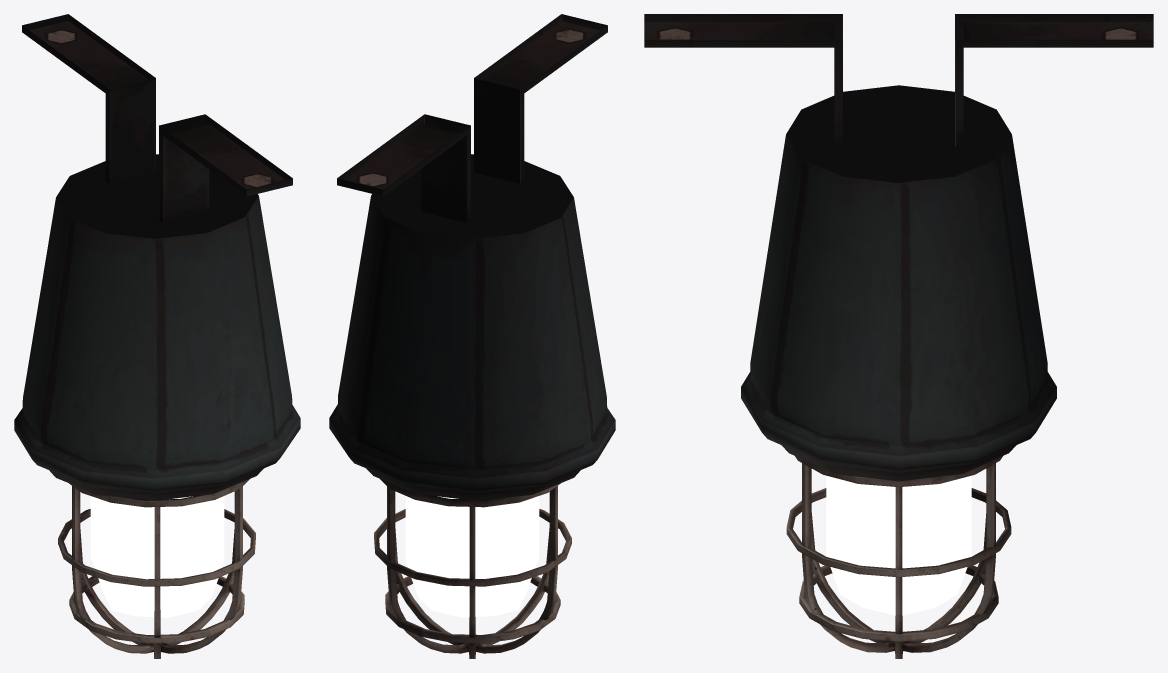
The model's file is Light1S1IN.fbx.
3 views of the same model, side by side, from view 1: azimuth 30°, elevation 25°; view 2: azimuth 150°, elevation 25°; view 3: azimuth 270°, elevation 25° (orthographic). The views are drawn at different scales.
Visible parts, largest first — view 1: lamp8; view 2: lamp8; view 3: lamp8.
Part boxes in pixels (x1,y1,x2,y2): lamp8: (14,14,300,658); lamp8: (329,14,615,658); lamp8: (644,14,1153,658).
Bounding box in the file's own units: 22.51 × 47.02 × 34.95.
Materials: 1 (1 with a texture image).
